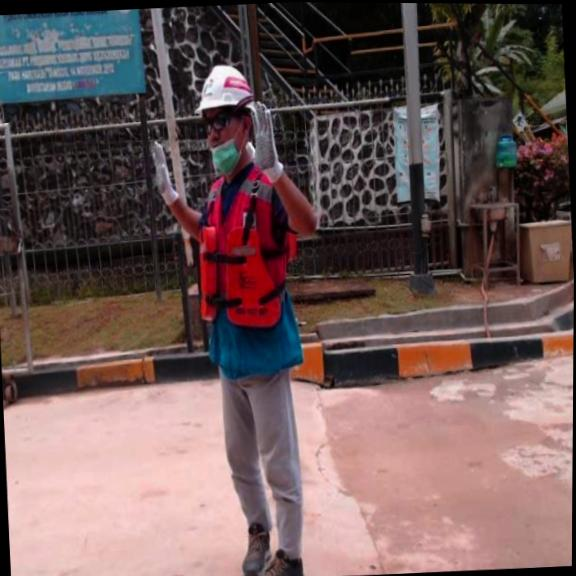safety_vest: (192, 220, 303, 330)
